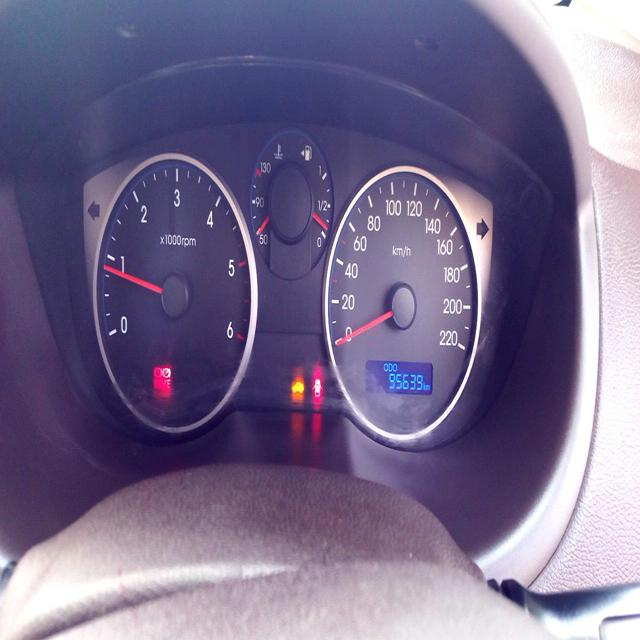odometer: (387, 371, 424, 394)
